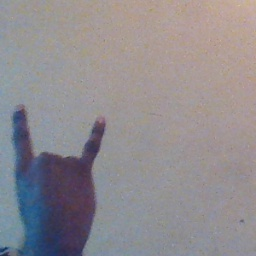V: (11, 102, 109, 242)
